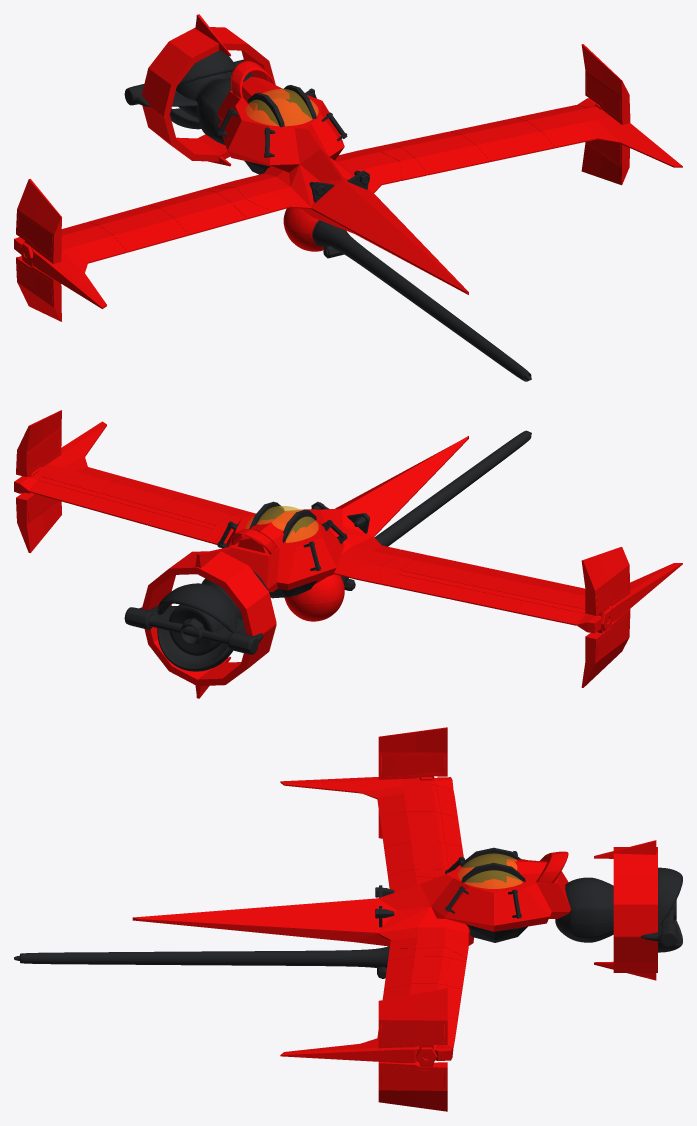
The model's file is swordfishII_0104.gltf.
The picture shows the model from 3 angles, top to bottom: view 1: azimuth 30°, elevation 25°; view 2: azimuth 150°, elevation 25°; view 3: azimuth 270°, elevation 25°; orthographic projection. The views are drawn at different scales.
Parts seen in each view (by area): view 1: SwordfishII.obj, SwordfishII.obj.011, SwordfishII.obj.021, SwordfishII.obj.002, SwordfishII.obj.016, SwordfishII.obj.004, SwordfishII.obj.003, SwordfishII.obj.008, SwordfishII.obj.001, SwordfishII.obj.005, SwordfishII.obj.010, SwordfishII.obj.006 (+1 smaller); view 2: SwordfishII.obj, SwordfishII.obj.011, SwordfishII.obj.021, SwordfishII.obj.016, SwordfishII.obj.008, SwordfishII.obj.002, SwordfishII.obj.010, SwordfishII.obj.001, SwordfishII.obj.004, SwordfishII.obj.003, SwordfishII.obj.005, SwordfishII.obj.030 (+2 smaller); view 3: SwordfishII.obj, SwordfishII.obj.021, SwordfishII.obj.002, SwordfishII.obj.011, SwordfishII.obj.016, SwordfishII.obj.004, SwordfishII.obj.003, SwordfishII.obj.008, SwordfishII.obj.026, SwordfishII.obj.030, SwordfishII.obj.005, SwordfishII.obj.006 (+2 smaller).
Part boxes in pixels (bbox=[...]): SwordfishII.obj: bbox=[14, 90, 682, 308]; SwordfishII.obj.011: bbox=[142, 27, 275, 161]; SwordfishII.obj.021: bbox=[16, 44, 630, 263]; SwordfishII.obj.002: bbox=[312, 220, 531, 381]; SwordfishII.obj.016: bbox=[16, 139, 630, 321]; SwordfishII.obj.004: bbox=[176, 72, 245, 144]; SwordfishII.obj.003: bbox=[246, 89, 318, 125]; SwordfishII.obj.008: bbox=[169, 50, 235, 129]; SwordfishII.obj.001: bbox=[283, 208, 324, 251]; SwordfishII.obj.005: bbox=[242, 76, 289, 110]; SwordfishII.obj.010: bbox=[124, 59, 254, 106]; SwordfishII.obj.006: bbox=[231, 61, 275, 98]; SwordfishII.obj: bbox=[14, 421, 682, 633]; SwordfishII.obj.011: bbox=[142, 551, 276, 685]; SwordfishII.obj.021: bbox=[16, 410, 630, 615]; SwordfishII.obj.016: bbox=[16, 493, 630, 687]; SwordfishII.obj.008: bbox=[157, 583, 237, 671]; SwordfishII.obj.002: bbox=[340, 430, 531, 584]; SwordfishII.obj.010: bbox=[124, 606, 263, 654]; SwordfishII.obj.001: bbox=[284, 574, 344, 621]; SwordfishII.obj.004: bbox=[169, 571, 268, 655]; SwordfishII.obj.003: bbox=[246, 506, 318, 542]; SwordfishII.obj.005: bbox=[237, 519, 296, 553]; SwordfishII.obj.030: bbox=[282, 509, 316, 543]; SwordfishII.obj: bbox=[132, 777, 570, 1062]; SwordfishII.obj.021: bbox=[378, 727, 447, 1048]; SwordfishII.obj.002: bbox=[14, 946, 389, 967]; SwordfishII.obj.011: bbox=[613, 847, 657, 972]; SwordfishII.obj.016: bbox=[378, 810, 447, 1111]; SwordfishII.obj.004: bbox=[555, 877, 670, 942]; SwordfishII.obj.003: bbox=[458, 853, 522, 888]; SwordfishII.obj.008: bbox=[658, 867, 682, 952]; SwordfishII.obj.026: bbox=[461, 863, 525, 882]; SwordfishII.obj.030: bbox=[461, 847, 521, 867]; SwordfishII.obj.005: bbox=[506, 859, 547, 884]; SwordfishII.obj.006: bbox=[536, 851, 568, 883].
Size of the model in its own units: 13.43 by 3.29 by 13.8.
3 materials, 3 textured.
